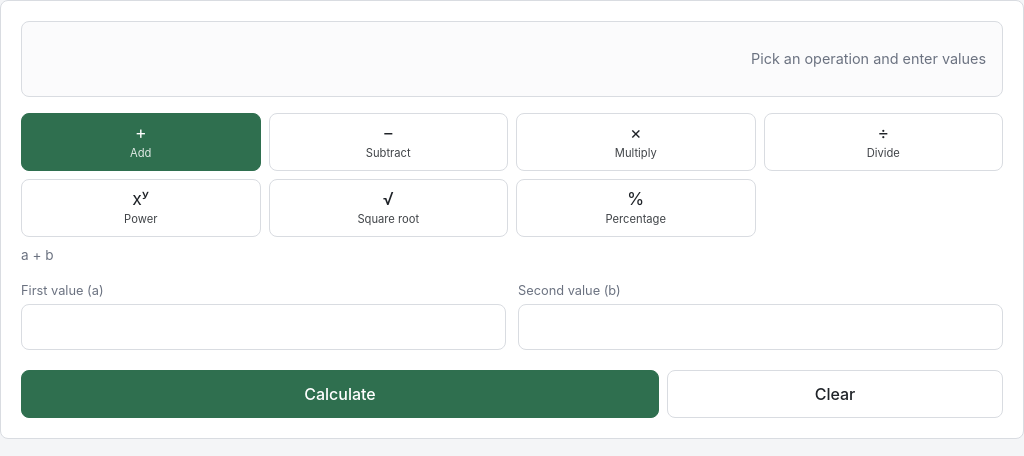
Test case: Calculator › falls back to a generic message for unexpected failures
The image size is (1024, 456).
Type "1" into the field labelled "First value (a)". click: (264, 327)
box: [21,304,506,350]
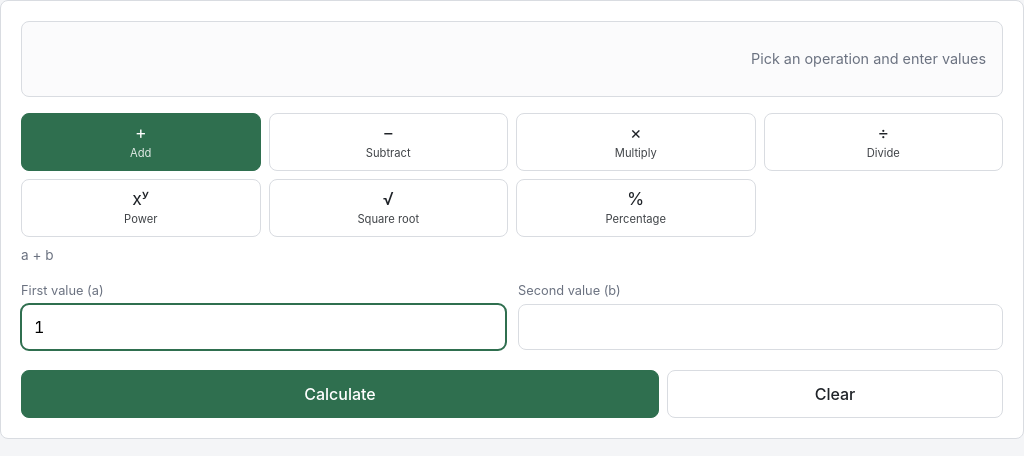
Type "2" into the field labelled "Second value (b)". click: (760, 327)
box: [518,304,1003,350]
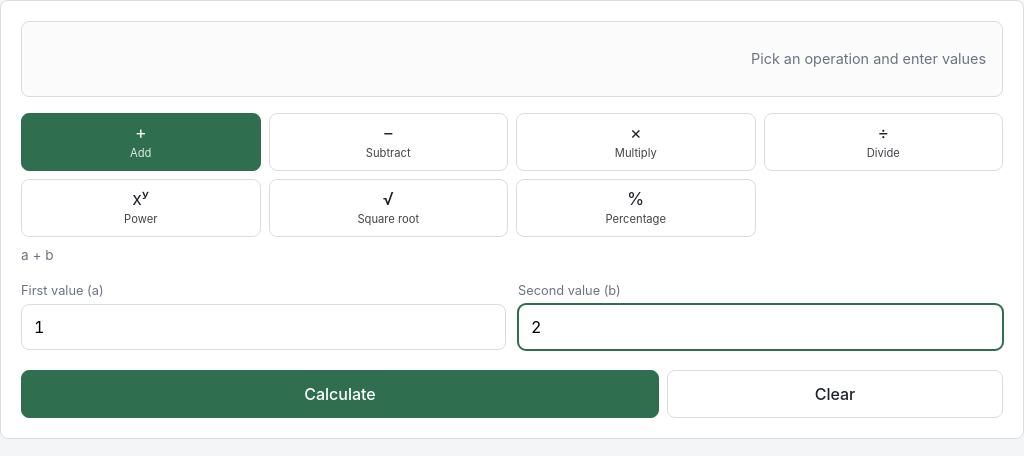
Click the button "Calculate". click: (340, 394)
box: [21,370,659,418]
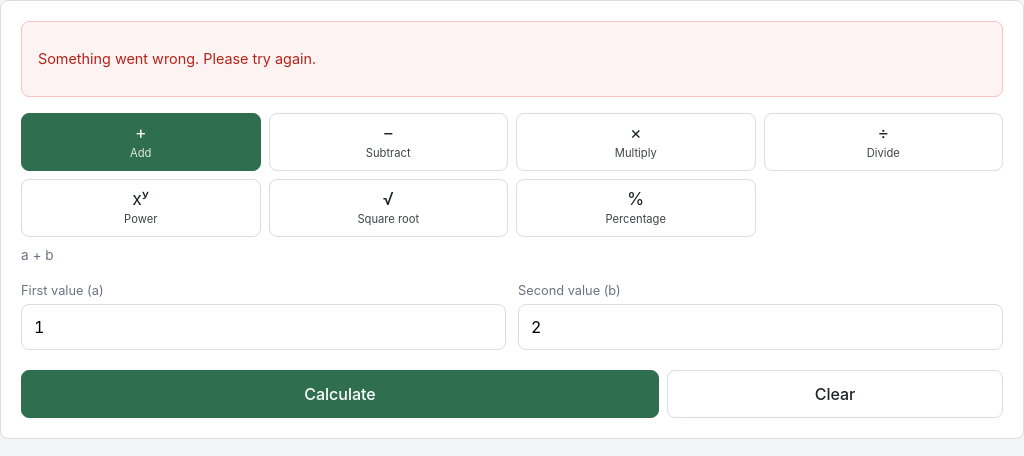
Check: the message shows "Something went wrong", box [38,50,316,67]
